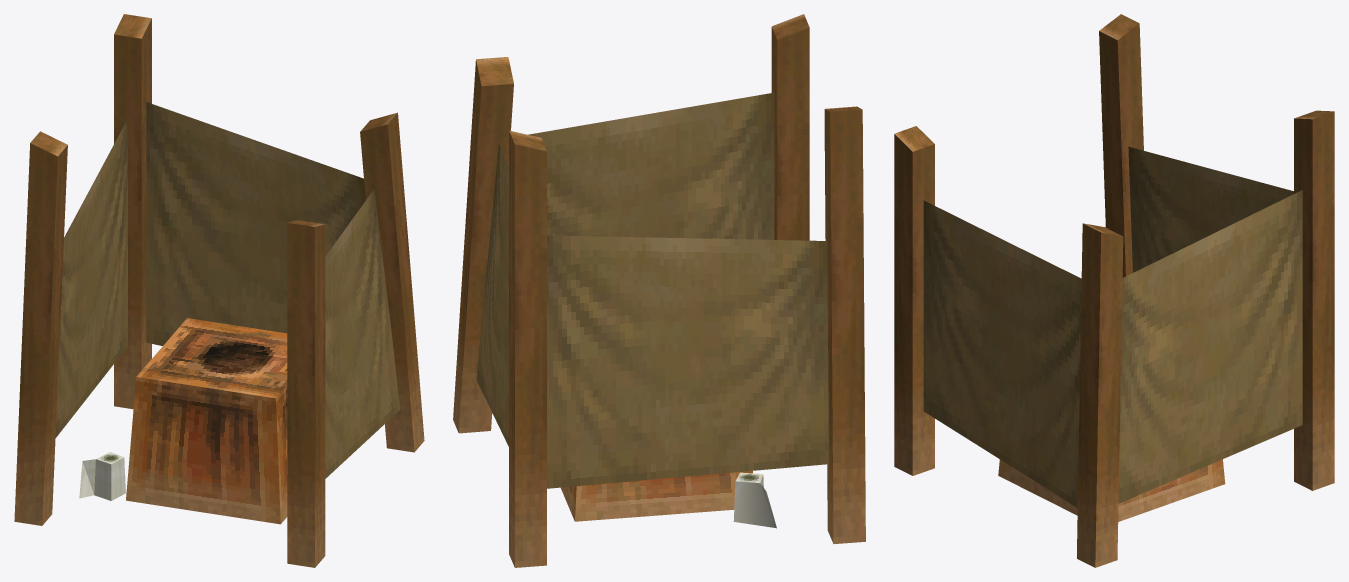
File: M5_Camp_Toilet.glb
The picture shows the model from 3 angles, left to right: view 1: azimuth 30°, elevation 25°; view 2: azimuth 150°, elevation 25°; view 3: azimuth 270°, elevation 25°; orthographic projection. The views are drawn at different scales.
Parts seen in each view (by area): view 1: M5_CAMP_TOILET; view 2: M5_CAMP_TOILET; view 3: M5_CAMP_TOILET.
Part boxes in pixels (x1,y1,x2,y2): M5_CAMP_TOILET: (14,14,424,567); M5_CAMP_TOILET: (453,14,865,567); M5_CAMP_TOILET: (894,14,1334,567).
Bounding box in the file's own units: 2.19 × 2.04 × 2.19.
6 materials, 6 textured.
